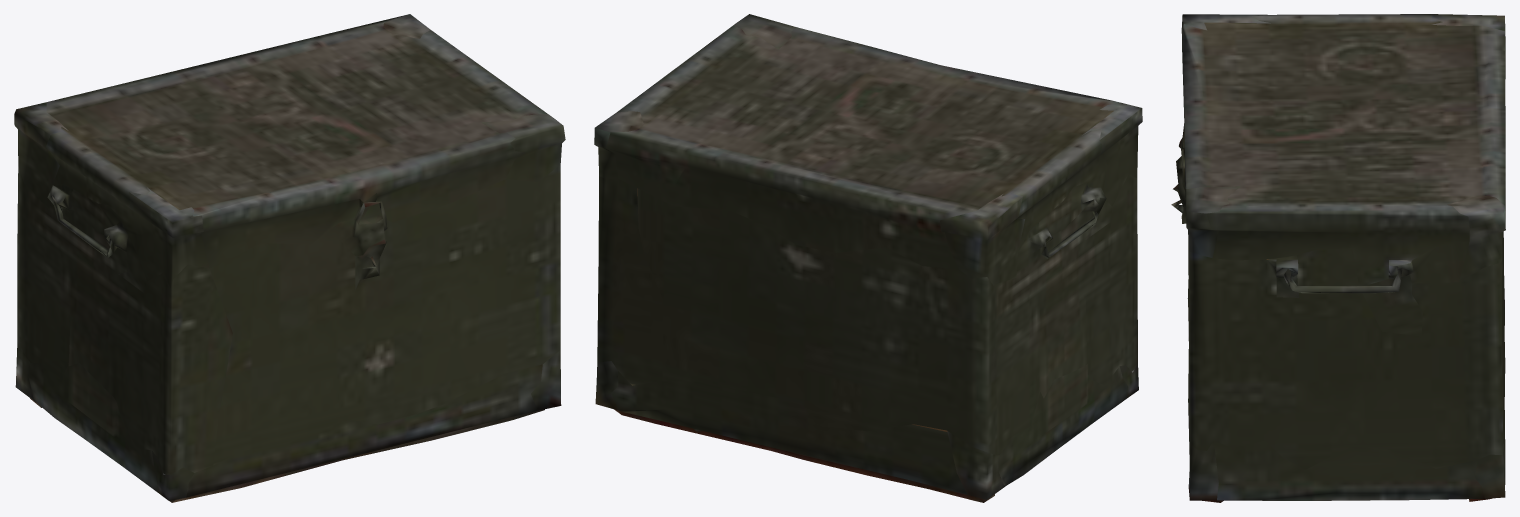
The model's file is Q_MysteryBox.fbx.
3 renders of one model, left to right at view 1: azimuth 30°, elevation 25°; view 2: azimuth 150°, elevation 25°; view 3: azimuth 270°, elevation 25°, orthographic. The views are drawn at different scales.
Visible parts, largest first — view 1: Aset_container_other_M_uh2ucdkfa_LOD5; view 2: Aset_container_other_M_uh2ucdkfa_LOD5; view 3: Aset_container_other_M_uh2ucdkfa_LOD5.
Part boxes in pixels (bbox=[...]): Aset_container_other_M_uh2ucdkfa_LOD5: bbox=[14, 14, 565, 502]; Aset_container_other_M_uh2ucdkfa_LOD5: bbox=[594, 14, 1142, 502]; Aset_container_other_M_uh2ucdkfa_LOD5: bbox=[1171, 14, 1505, 502].
Size of the model in its own units: 24.32 by 16.17 by 16.31.
Materials: 1 (1 with a texture image).
